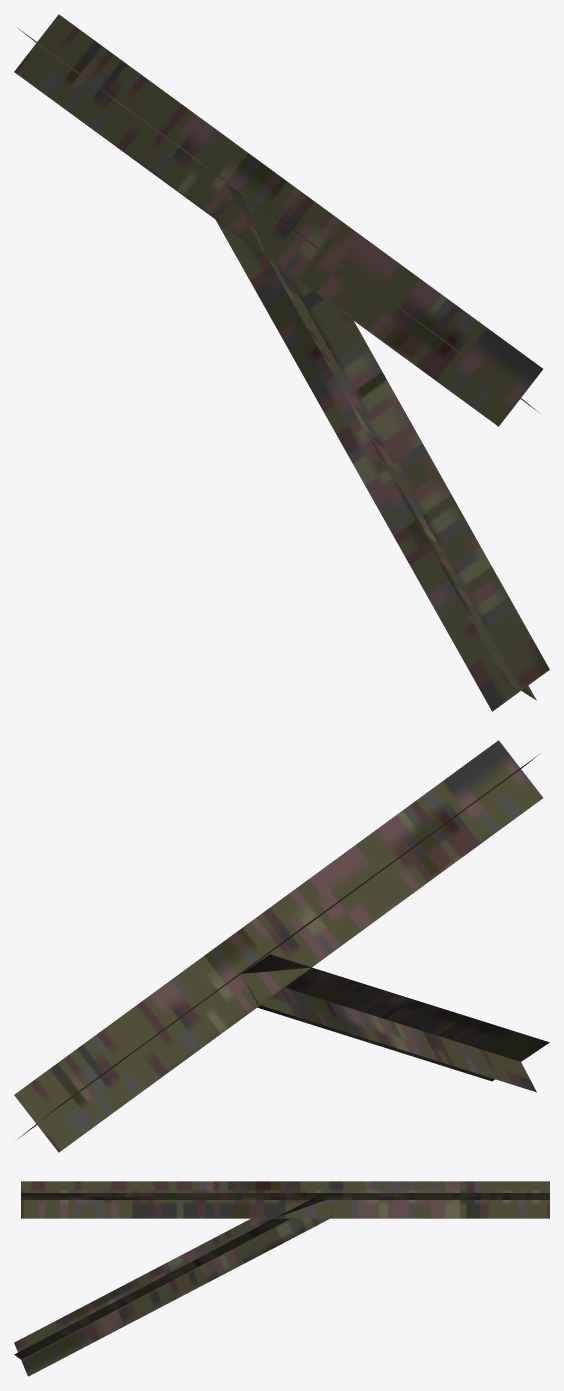
File: PoleArm1.glb
3 views of the same model, one above another, from view 1: azimuth 30°, elevation 25°; view 2: azimuth 150°, elevation 25°; view 3: azimuth 270°, elevation 25° (orthographic). The views are drawn at different scales.
Parts seen in each view (by area): view 1: Plane; view 2: Plane; view 3: Plane.
Boxes of the visible parts, x1,y1,x2,y2 form: Plane: [14, 14, 549, 711]; Plane: [14, 740, 549, 1152]; Plane: [14, 1181, 549, 1376].
Bounding box in the file's own units: 0.1601 × 1.15 × 3.04.
1 material, 1 textured.
